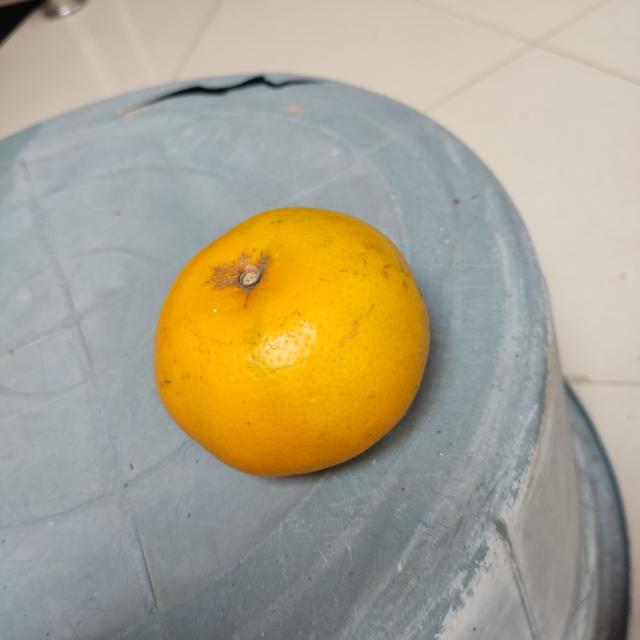orange: (150, 200, 438, 486)
